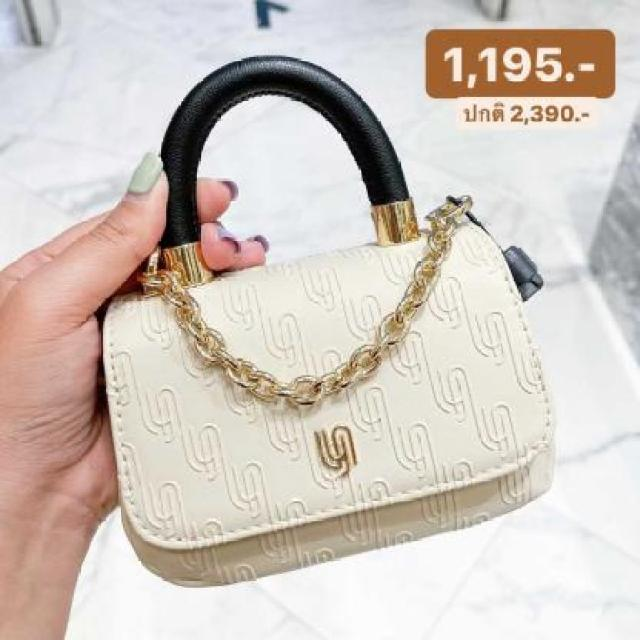Bag: (44, 20, 591, 594)
